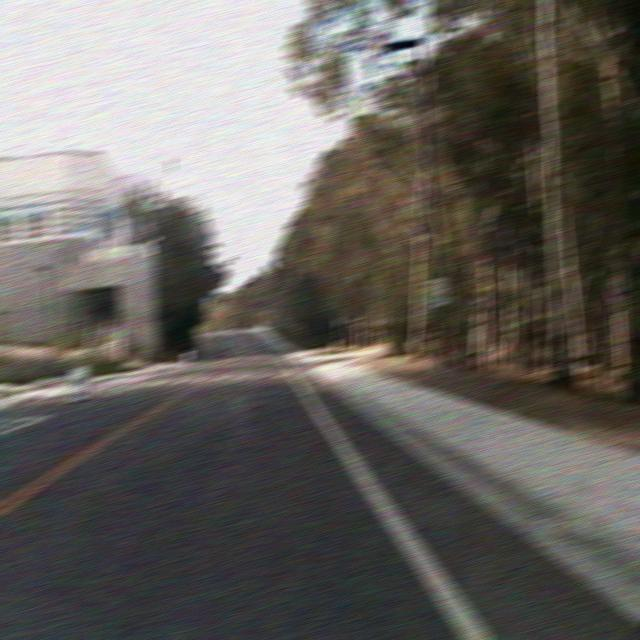speedLimit35: (426, 276, 450, 308)
